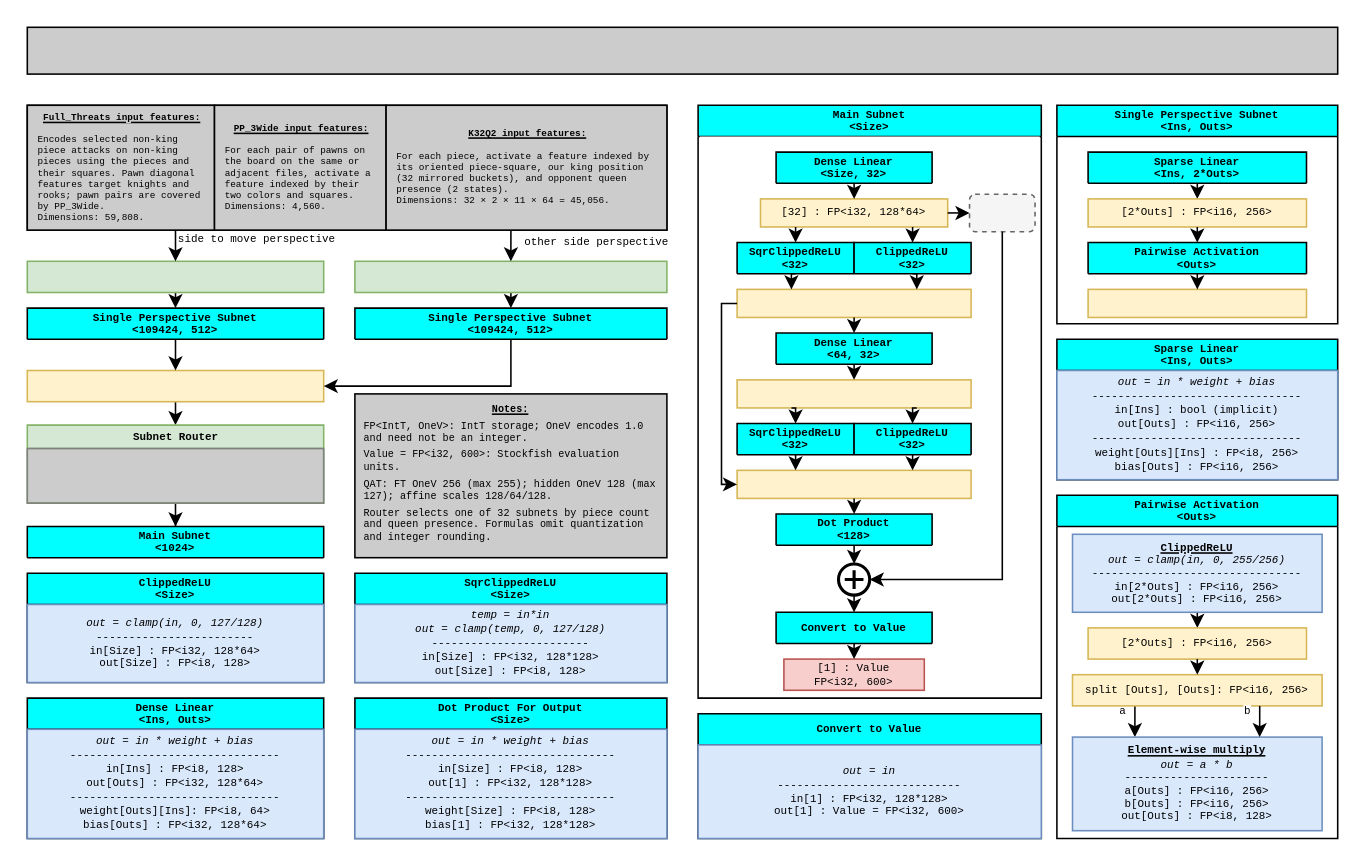
Some shapes in this 1365 by 866 pixel diagram are drawn without their labels. The shapes that lost their labels are listed below. From the top down, each one's centre as x and y in pixels, then its label:
At (682,50): "Stockfish SFNNv18 evaluation network diagram".
At (1001,212): "skip x30 - x31".
At (175,276): "Input feature set [109424] : bool (implicit)".
At (510,276): "Input feature set [ 109424 ] : bool (implicit)".
At (853,302): "concat [64] : FP<i8, 128>".
At (1196,302): "[Outs] : FP<i8, 128>".
At (175,385): "concat [1024] : FP<i8, 128>".
At (853,393): "[32] : FP<i32, 128*64>".
At (175,475): "pc = (pieces - 1) / 4 q = 2*stmQ + oppQ (Q: queen) stack = 4*pc + q 32 stacks".
At (853,483): "concat [128] : FP<i8, 128>".
